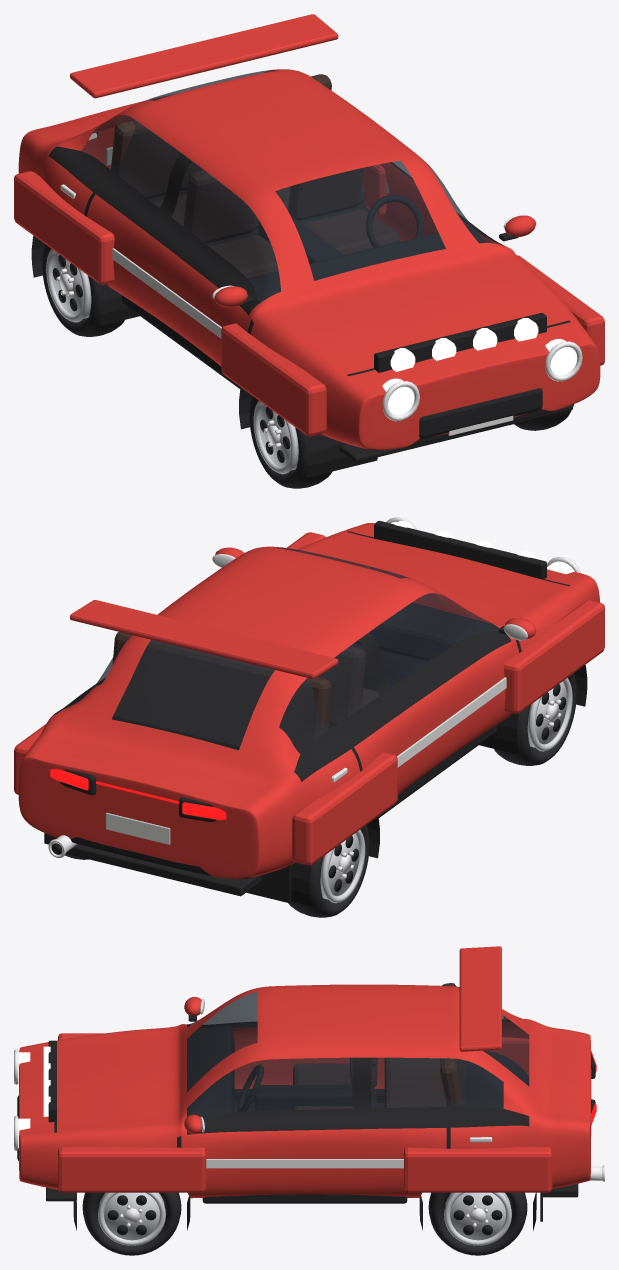
Rendered from gruppo.glb.
3 views of the same model, one above another, from view 1: azimuth 30°, elevation 25°; view 2: azimuth 150°, elevation 25°; view 3: azimuth 270°, elevation 25° (orthographic). The views are drawn at different scales.
Visible parts, largest first — view 1: body, wheel_fr, wheel_rr; view 2: body, wheel_fr, wheel_rr; view 3: body, wheel_rl, wheel_fl.
Part boxes in pixels (x1,y1,x2,y2): body: [14, 14, 604, 477]; wheel_fr: [249, 396, 331, 488]; wheel_rr: [42, 244, 124, 336]; body: [14, 517, 604, 906]; wheel_fr: [494, 673, 576, 765]; wheel_rr: [288, 825, 369, 917]; body: [14, 946, 604, 1230]; wheel_rl: [428, 1192, 527, 1255]; wheel_fl: [82, 1192, 181, 1255].
Bounding box in the file's own units: 2.18 × 1.63 × 4.18.
